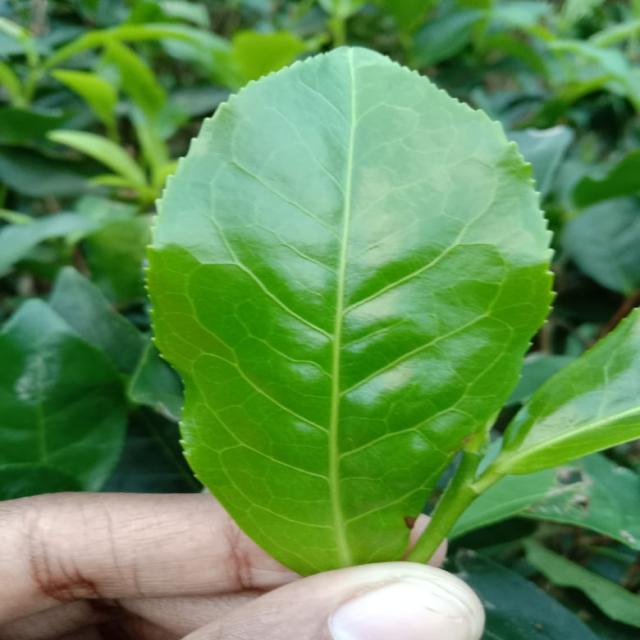Category C 4-7 days: (140, 36, 569, 600)
